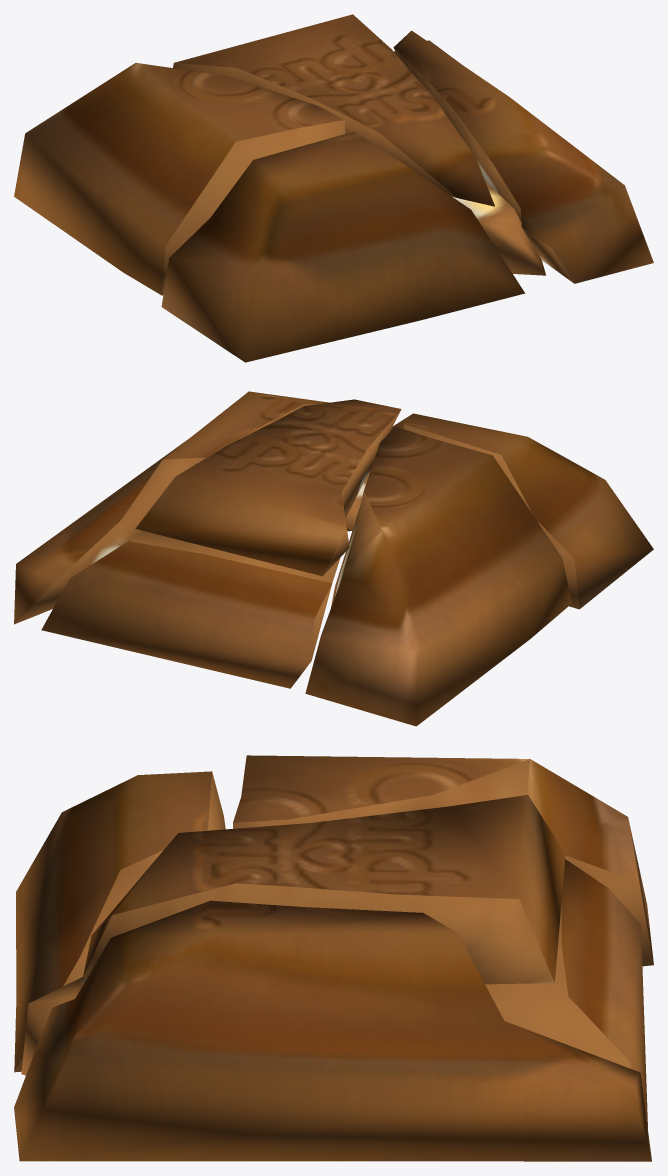
File: ChocolateCraked.obj
3 renders of one model, top to bottom at view 1: azimuth 30°, elevation 25°; view 2: azimuth 150°, elevation 25°; view 3: azimuth 270°, elevation 25°, orthographic. The views are drawn at different scales.
Visible parts, largest first — view 1: Object0012; view 2: Object0012; view 3: Object0012.
Part boxes in pixels (x1=…): Object0012: x1=14, y1=14, x2=653, y2=362; Object0012: x1=14, y1=391, x2=653, y2=726; Object0012: x1=14, y1=755, x2=653, y2=1161.
Bounding box in the file's own units: 307 × 103 × 304.
Materials: 1 (1 with a texture image).
